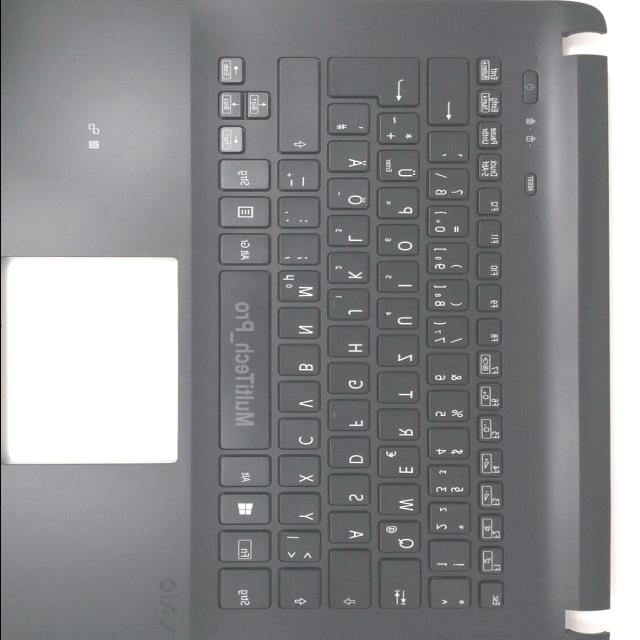0: (429, 208, 473, 241)
1: (431, 542, 473, 575)
2: (431, 504, 475, 537)
3: (430, 467, 474, 501)
4: (430, 430, 473, 462)
5: (430, 393, 473, 425)
6: (430, 356, 472, 388)
7: (429, 318, 472, 351)
8: (429, 283, 473, 315)
9: (429, 245, 473, 277)
a: (331, 514, 374, 546)
accent: (431, 134, 473, 166)
ae: (329, 143, 373, 176)
alt-left: (221, 458, 274, 490)
altgr-right: (221, 236, 274, 268)
b: (281, 346, 325, 380)
c: (281, 421, 325, 453)
caret: (432, 581, 475, 612)
comma: (281, 237, 325, 269)
d: (330, 440, 374, 472)
del: (430, 60, 473, 129)
e: (380, 449, 424, 481)
enter: (330, 59, 423, 110)
f: (330, 402, 374, 434)
g: (330, 366, 374, 398)
h: (330, 329, 374, 361)
hash: (330, 107, 374, 138)
i: (379, 264, 423, 296)
j: (330, 292, 374, 324)
k: (330, 255, 374, 287)
keyboard: (200, 43, 532, 632)
l: (330, 218, 374, 250)
less: (280, 533, 326, 565)
m: (280, 273, 326, 306)
minus: (281, 162, 325, 195)
n: (281, 310, 325, 343)
o: (379, 227, 423, 259)
oe: (330, 181, 374, 213)
p: (379, 190, 423, 223)
plus: (380, 115, 424, 147)
point: (281, 200, 325, 232)
q: (381, 523, 425, 557)
r: (379, 412, 423, 444)
s: (330, 477, 374, 509)
shift-left: (281, 571, 325, 613)
shift-lock: (332, 553, 376, 613)
shift-right: (281, 60, 325, 158)
space: (220, 271, 276, 455)
ss: (430, 171, 473, 203)
strg-left: (221, 571, 276, 615)
strg-right: (221, 161, 274, 194)
t: (380, 375, 423, 407)
tab: (381, 563, 425, 613)
u: (378, 301, 422, 333)
ue: (378, 152, 424, 186)
v: (281, 384, 325, 416)
w: (381, 487, 425, 519)
x: (281, 458, 325, 490)
y: (281, 495, 325, 527)
z: (379, 338, 423, 370)
